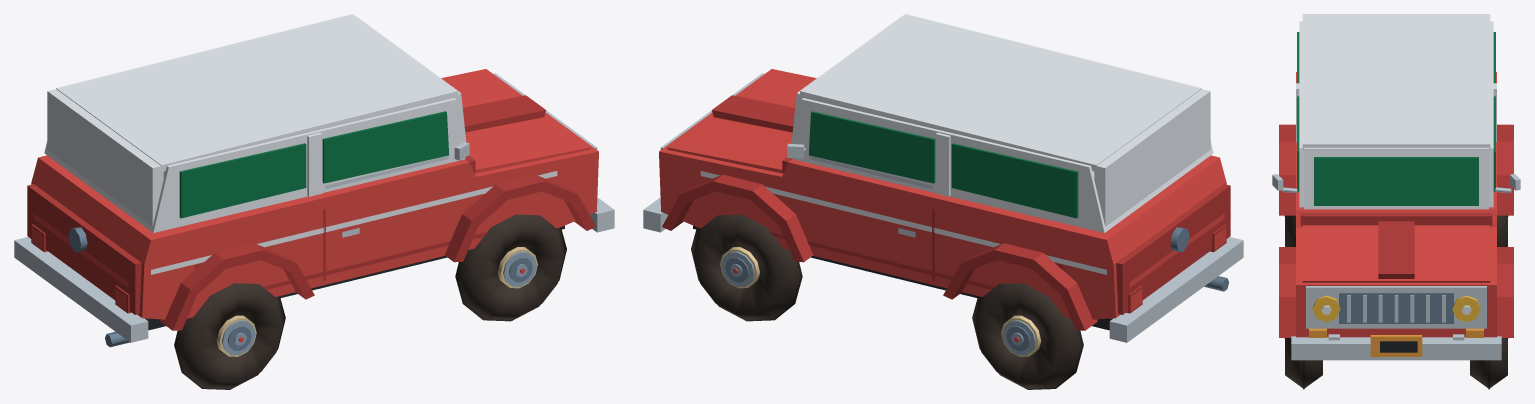
The model's file is vintage-4x4.glb.
The picture shows the model from 3 angles, left to right: view 1: azimuth 30°, elevation 25°; view 2: azimuth 150°, elevation 25°; view 3: azimuth 270°, elevation 25°; orthographic projection. The views are drawn at different scales.
Visible parts, largest first — view 1: tub, roofPanel, roofShell, rearPanel, rearLeftWheel_tire, frontLeftWheel_tire, rearGlassL, bonnet, doorGlassL, tailgate, rearBumper, rearFlareL (+11 smaller); view 2: tub, roofPanel, roofShell, rearPanel, rearRightWheel_tire, frontRightWheel_tire, rearGlassR, bonnet, doorGlassR, tailgate, rearBumper, rearFlareR (+11 smaller); view 3: roofPanel, bonnet, windscreenGlass, tub, frontBumper, windscreenFrame, grillePanel, grilleRecess, cowl, bonnetCrease, roofShell, frontFlareL (+13 smaller).
Boxes of the visible parts, box(x1,y1,x2,y2) form: tub: box(31, 69, 598, 319); roofPanel: box(56, 14, 457, 171); roofShell: box(44, 98, 465, 232); rearPanel: box(47, 89, 163, 226); rearLeftWheel_tire: box(176, 283, 284, 388); frontLeftWheel_tire: box(457, 214, 565, 319); rearGlassL: box(179, 143, 306, 218); bonnet: box(442, 70, 590, 173); doorGlassL: box(322, 111, 448, 183); tailgate: box(27, 184, 141, 314); rearBumper: box(14, 237, 148, 342); rearFlareL: box(160, 243, 314, 330); tub: box(659, 69, 1226, 319); roofPanel: box(800, 14, 1201, 171); roofShell: box(792, 98, 1213, 232); rearPanel: box(1094, 89, 1210, 226); rearRightWheel_tire: box(973, 283, 1081, 388); frontRightWheel_tire: box(692, 214, 800, 319); rearGlassR: box(951, 143, 1078, 218); bonnet: box(667, 70, 815, 173); doorGlassR: box(809, 111, 935, 183); tailgate: box(1116, 184, 1230, 314); rearBumper: box(1109, 237, 1243, 342); rearFlareR: box(943, 243, 1097, 330); roofPanel: box(1302, 17, 1490, 150); bonnet: box(1302, 225, 1490, 282); windscreenGlass: box(1314, 157, 1478, 205); tub: box(1296, 72, 1496, 337); frontBumper: box(1291, 336, 1501, 360); windscreenFrame: box(1304, 147, 1488, 209); grillePanel: box(1306, 286, 1486, 328); grilleRecess: box(1339, 293, 1453, 323); cowl: box(1300, 213, 1492, 226); bonnetCrease: box(1378, 221, 1414, 278); roofShell: box(1299, 21, 1493, 207); frontFlareL: box(1279, 247, 1295, 337).
Size of the model in its own units: 4.44 by 2.12 by 2.2.
